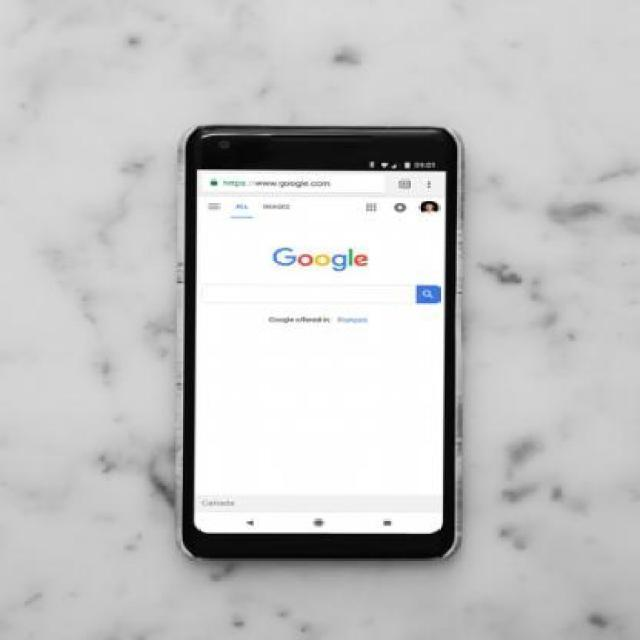phone: (164, 121, 470, 585)
